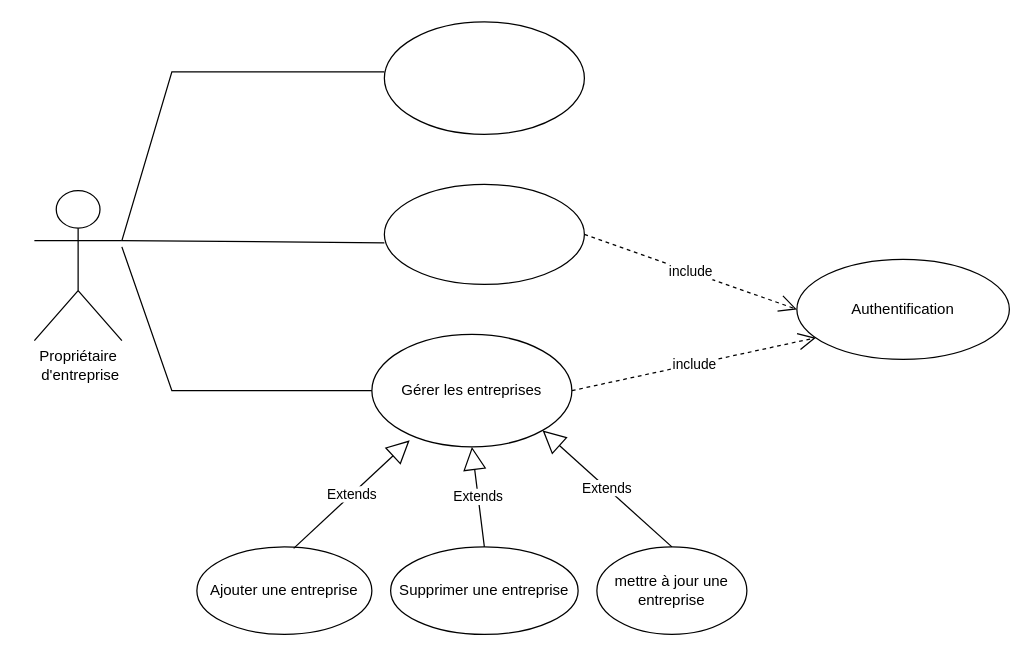
Some shapes in this 1031 by 656 pixel diagram are drawn without their labels. The shapes that lost their labels are listed below. From the top down, each one's centre as x and y in pixels, then its label:
At point (483, 77): "S'inscrire".
At point (483, 233): "Consulterr les avis".
